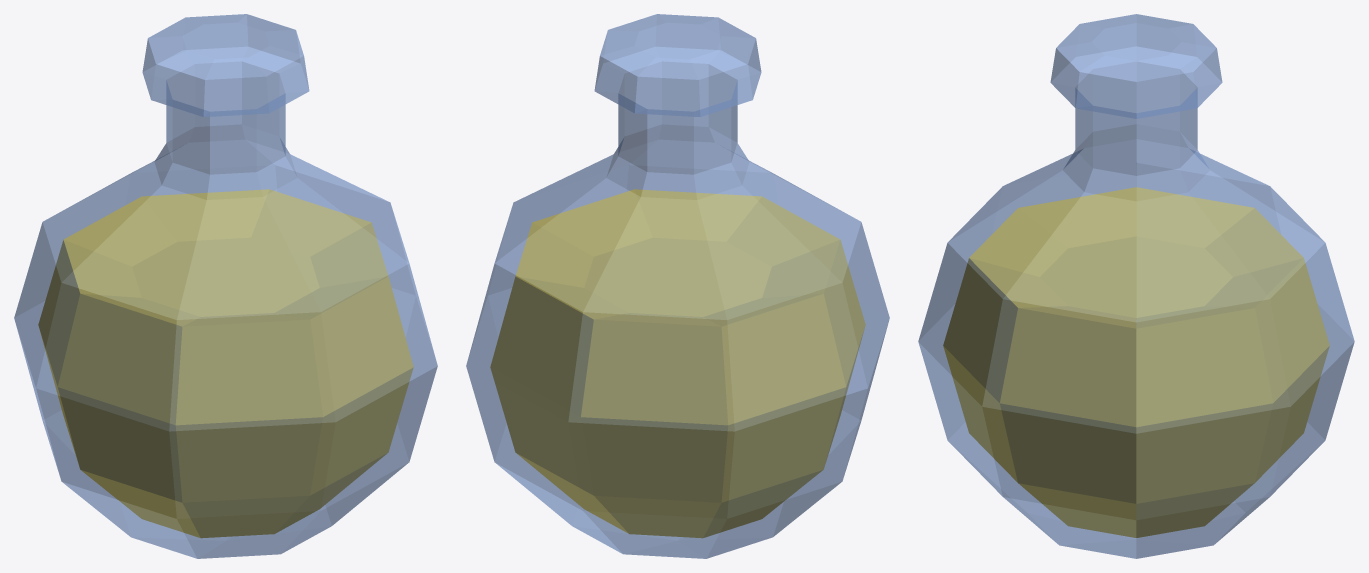
File: Potion.fbx
3 renders of one model, left to right at view 1: azimuth 30°, elevation 25°; view 2: azimuth 150°, elevation 25°; view 3: azimuth 270°, elevation 25°, orthographic.
Visible parts, largest first — view 1: Sphere, Sphere.001; view 2: Sphere, Sphere.001; view 3: Sphere, Sphere.001.
Boxes of the visible parts, left/top/right/bottom form: Sphere: left=14, top=14, right=437, bottom=558; Sphere.001: left=38, top=189, right=413, bottom=538; Sphere: left=466, top=14, right=889, bottom=558; Sphere.001: left=490, top=189, right=865, bottom=538; Sphere: left=918, top=14, right=1354, bottom=558; Sphere.001: left=943, top=187, right=1329, bottom=537.
Bounding box in the file's own units: 200 × 251 × 200.
